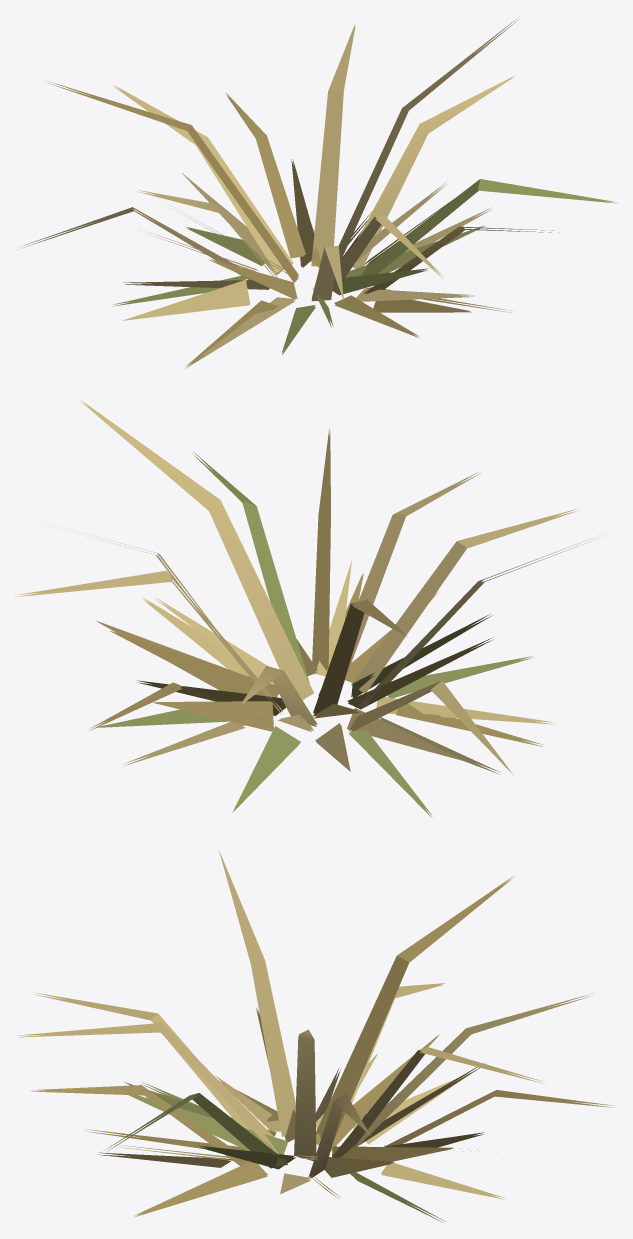
Rendered from tuft-0.glb.
3 views of the same model, one above another, from view 1: azimuth 30°, elevation 25°; view 2: azimuth 150°, elevation 25°; view 3: azimuth 270°, elevation 25° (orthographic). The views are drawn at different scales.
Visible parts, largest first — view 1: tuft-0; view 2: tuft-0; view 3: tuft-0.
Part boxes in pixels (left/top/right/bottom): tuft-0: left=21, top=16, right=617, bottom=368; tuft-0: left=15, top=399, right=596, bottom=818; tuft-0: left=17, top=849, right=617, bottom=1222.
Bounding box in the file's own units: 1.33 × 0.6562 × 1.39.
